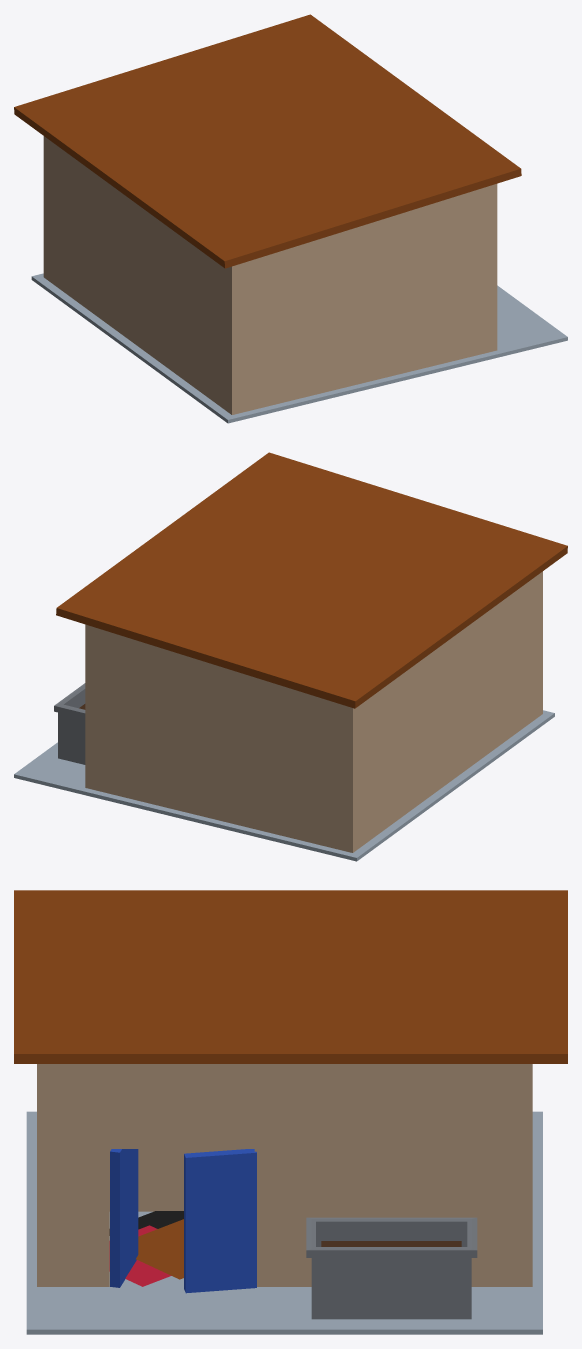
The model's file is garbage.glb.
3 renders of one model, top to bottom at view 1: azimuth 30°, elevation 25°; view 2: azimuth 150°, elevation 25°; view 3: azimuth 270°, elevation 25°, orthographic. The views are drawn at different scales.
Visible parts, largest first — view 1: garbage; view 2: garbage; view 3: garbage.
Part boxes in pixels (x1,y1,x2,y2): garbage: (14,14,567,423); garbage: (14,452,567,861); garbage: (14,890,567,1334).
Size of the model in its own units: 10.24 by 5.29 by 10.73.
